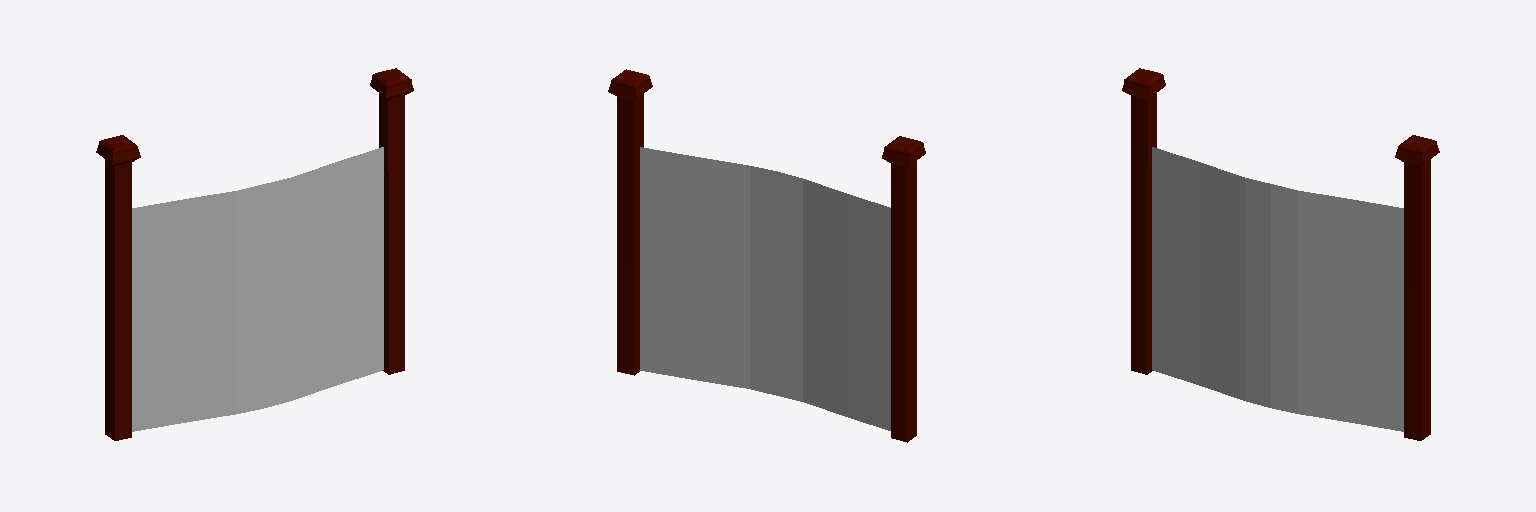
File: Gate.obj
3 views of the same model, side by side, from view 1: azimuth 30°, elevation 25°; view 2: azimuth 150°, elevation 25°; view 3: azimuth 330°, elevation 25° (orthographic).
Visible parts, largest first — view 1: Gate; view 2: Gate; view 3: Gate.
Boxes of the visible parts, x1=… form: Gate: x1=96, y1=68, x2=413, y2=440; Gate: x1=608, y1=69, x2=925, y2=442; Gate: x1=1122, y1=68, x2=1439, y2=440.
Bounding box in the file's own units: 7.79 × 7.25 × 0.8108.